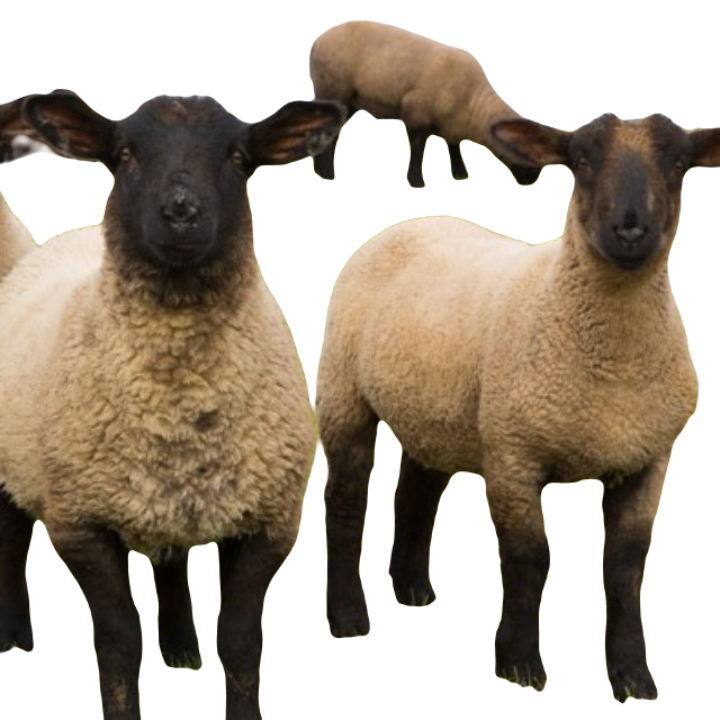Sheep: (313, 113, 719, 703), (0, 86, 316, 719)
